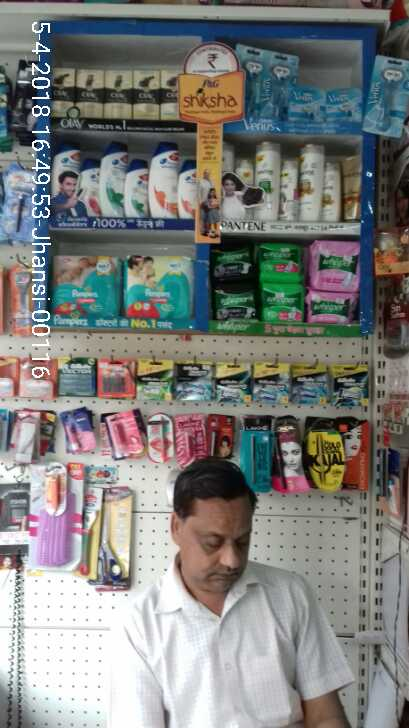gillete: (9, 263, 43, 336), (9, 167, 39, 241), (12, 58, 37, 129), (58, 355, 95, 399), (136, 358, 174, 399), (332, 363, 369, 405), (292, 363, 329, 405), (254, 362, 290, 405), (216, 361, 251, 405), (21, 357, 57, 399), (177, 360, 211, 400), (1, 356, 18, 398)
venus: (366, 60, 406, 134), (246, 44, 271, 117), (324, 86, 363, 122), (271, 53, 291, 118), (291, 86, 324, 122)
